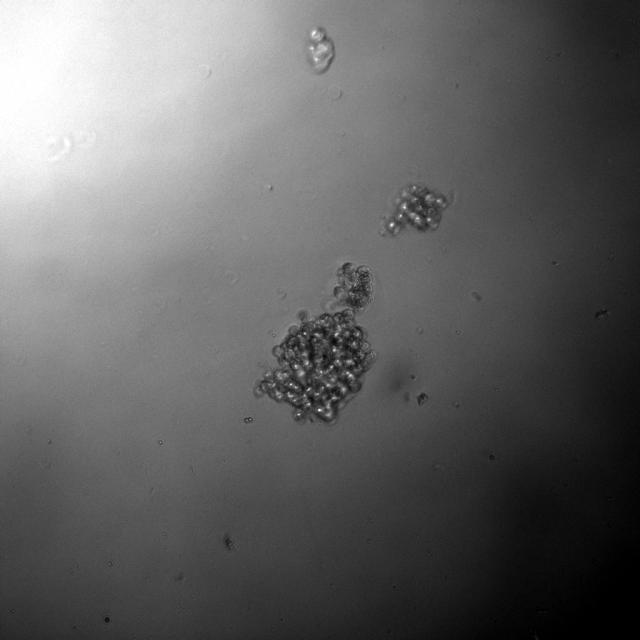organoid: (256, 262, 376, 423), (385, 184, 448, 234), (307, 27, 334, 72)
